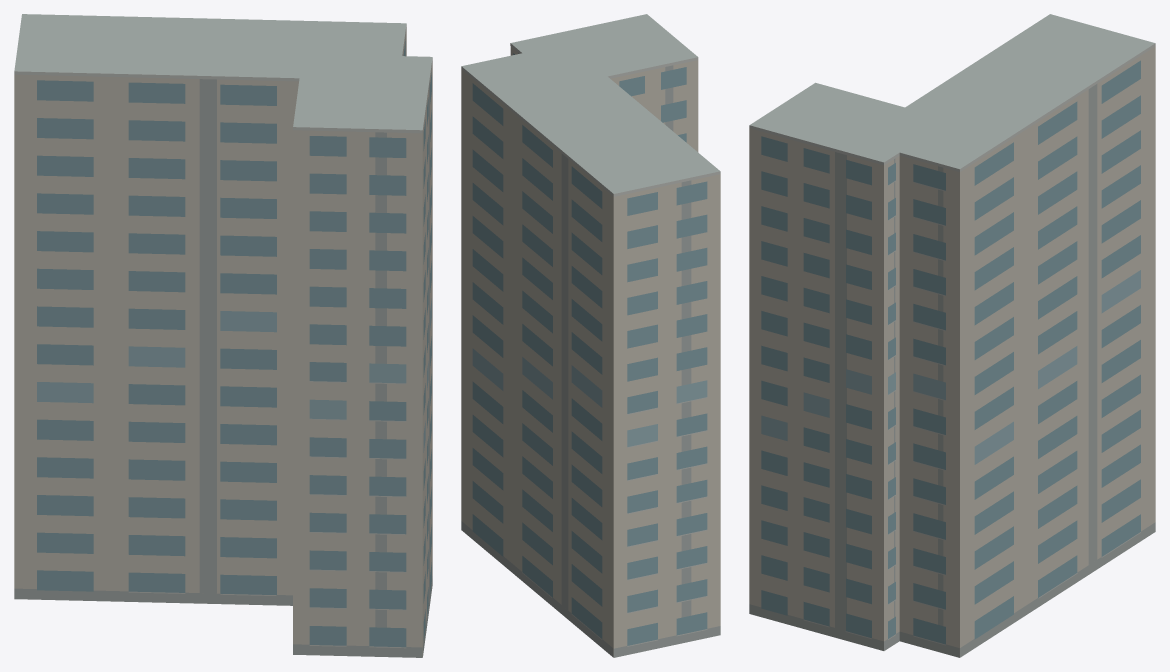
Rendered from residential-ea57d567-ed57-4101-a0bc-a66119d9019a.glb.
The picture shows the model from 3 angles, left to right: view 1: azimuth 30°, elevation 25°; view 2: azimuth 150°, elevation 25°; view 3: azimuth 270°, elevation 25°; orthographic projection. The views are drawn at different scales.
Visible parts, largest first — view 1: residential-ea57d567-ed57-4101-a0bc-a66119d9019a.tmp; view 2: residential-ea57d567-ed57-4101-a0bc-a66119d9019a.tmp; view 3: residential-ea57d567-ed57-4101-a0bc-a66119d9019a.tmp.
Boxes of the visible parts, x1,y1,x2,y2 form: residential-ea57d567-ed57-4101-a0bc-a66119d9019a.tmp: (14, 14, 432, 657); residential-ea57d567-ed57-4101-a0bc-a66119d9019a.tmp: (461, 14, 720, 657); residential-ea57d567-ed57-4101-a0bc-a66119d9019a.tmp: (749, 14, 1155, 657).
Bounding box in the file's own units: 27.26 × 40 × 30.13.
